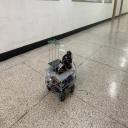cart: (44, 62, 77, 102)
